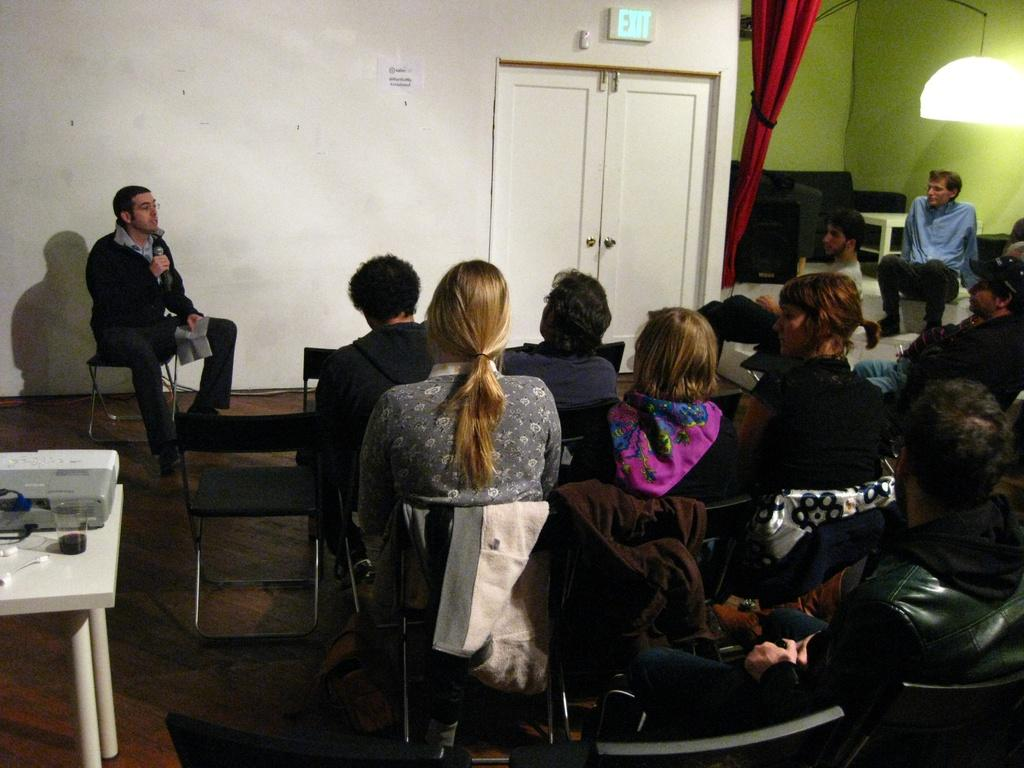Chair: (395, 494, 570, 750), (173, 410, 324, 639)
